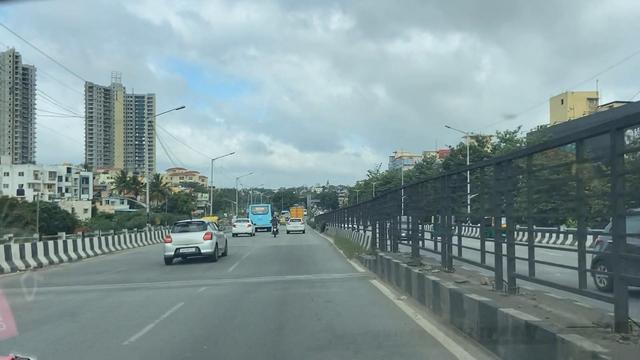HMV: (246, 198, 277, 241)
LMV: (159, 211, 229, 271), (266, 207, 287, 249), (281, 214, 309, 241), (227, 216, 256, 242)
